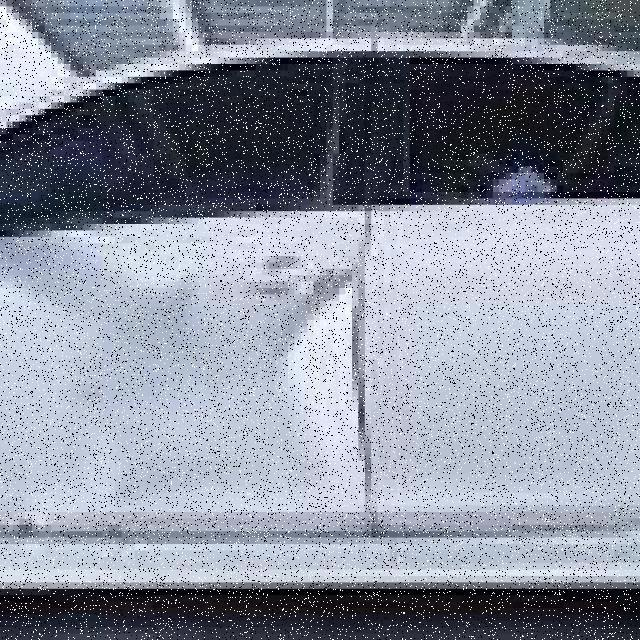fender: (0, 224, 359, 538)
